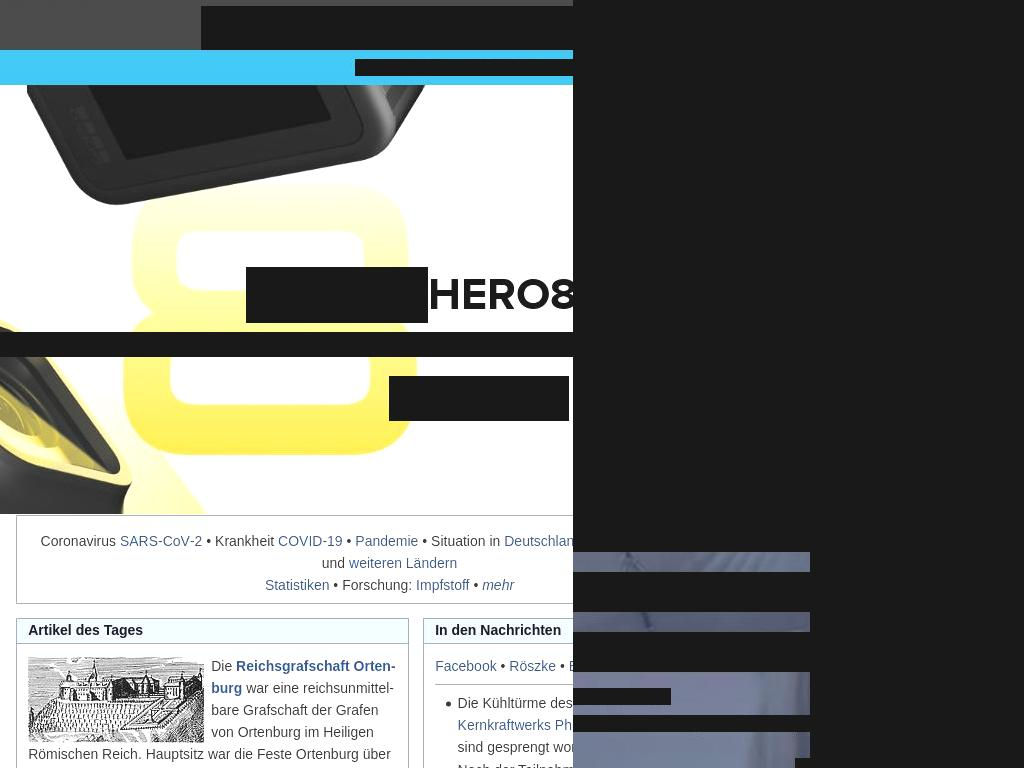button: (389, 376, 569, 421), (906, 127, 1024, 184), (310, 6, 450, 50), (201, 6, 310, 50), (450, 6, 527, 50), (527, 6, 573, 50)
field: (573, 632, 1024, 672), (573, 572, 956, 612), (573, 514, 956, 552)
heading: (810, 514, 1024, 768), (0, 332, 573, 357), (246, 267, 428, 323), (428, 267, 573, 323), (435, 622, 562, 639), (28, 622, 144, 639)
image: (573, 0, 1024, 445), (573, 444, 1024, 514), (28, 654, 205, 743), (573, 333, 801, 387)
label: (573, 688, 671, 705)
link: (211, 657, 397, 696), (430, 59, 573, 76), (457, 716, 573, 733), (831, 397, 915, 420), (349, 554, 458, 571), (910, 715, 1011, 732), (792, 715, 881, 732), (119, 532, 202, 549), (504, 532, 573, 549), (278, 532, 344, 549), (264, 576, 329, 593), (355, 532, 419, 549), (435, 657, 498, 674), (416, 576, 471, 593), (509, 657, 557, 674), (482, 576, 515, 593)
text: (28, 679, 395, 768), (702, 0, 1024, 56), (831, 323, 1024, 393), (702, 76, 1024, 102), (769, 199, 1024, 216), (831, 300, 1024, 322), (573, 715, 792, 732), (591, 647, 702, 665), (457, 694, 573, 711), (457, 738, 573, 755), (330, 19, 430, 37), (329, 576, 417, 593), (418, 532, 505, 549), (40, 532, 120, 549), (202, 532, 279, 549), (355, 59, 430, 76), (221, 19, 290, 37), (470, 19, 507, 37), (881, 715, 910, 732), (321, 554, 349, 571), (547, 19, 573, 37), (211, 657, 237, 674), (556, 657, 570, 674), (342, 532, 355, 549), (469, 576, 482, 593), (496, 657, 509, 674)
